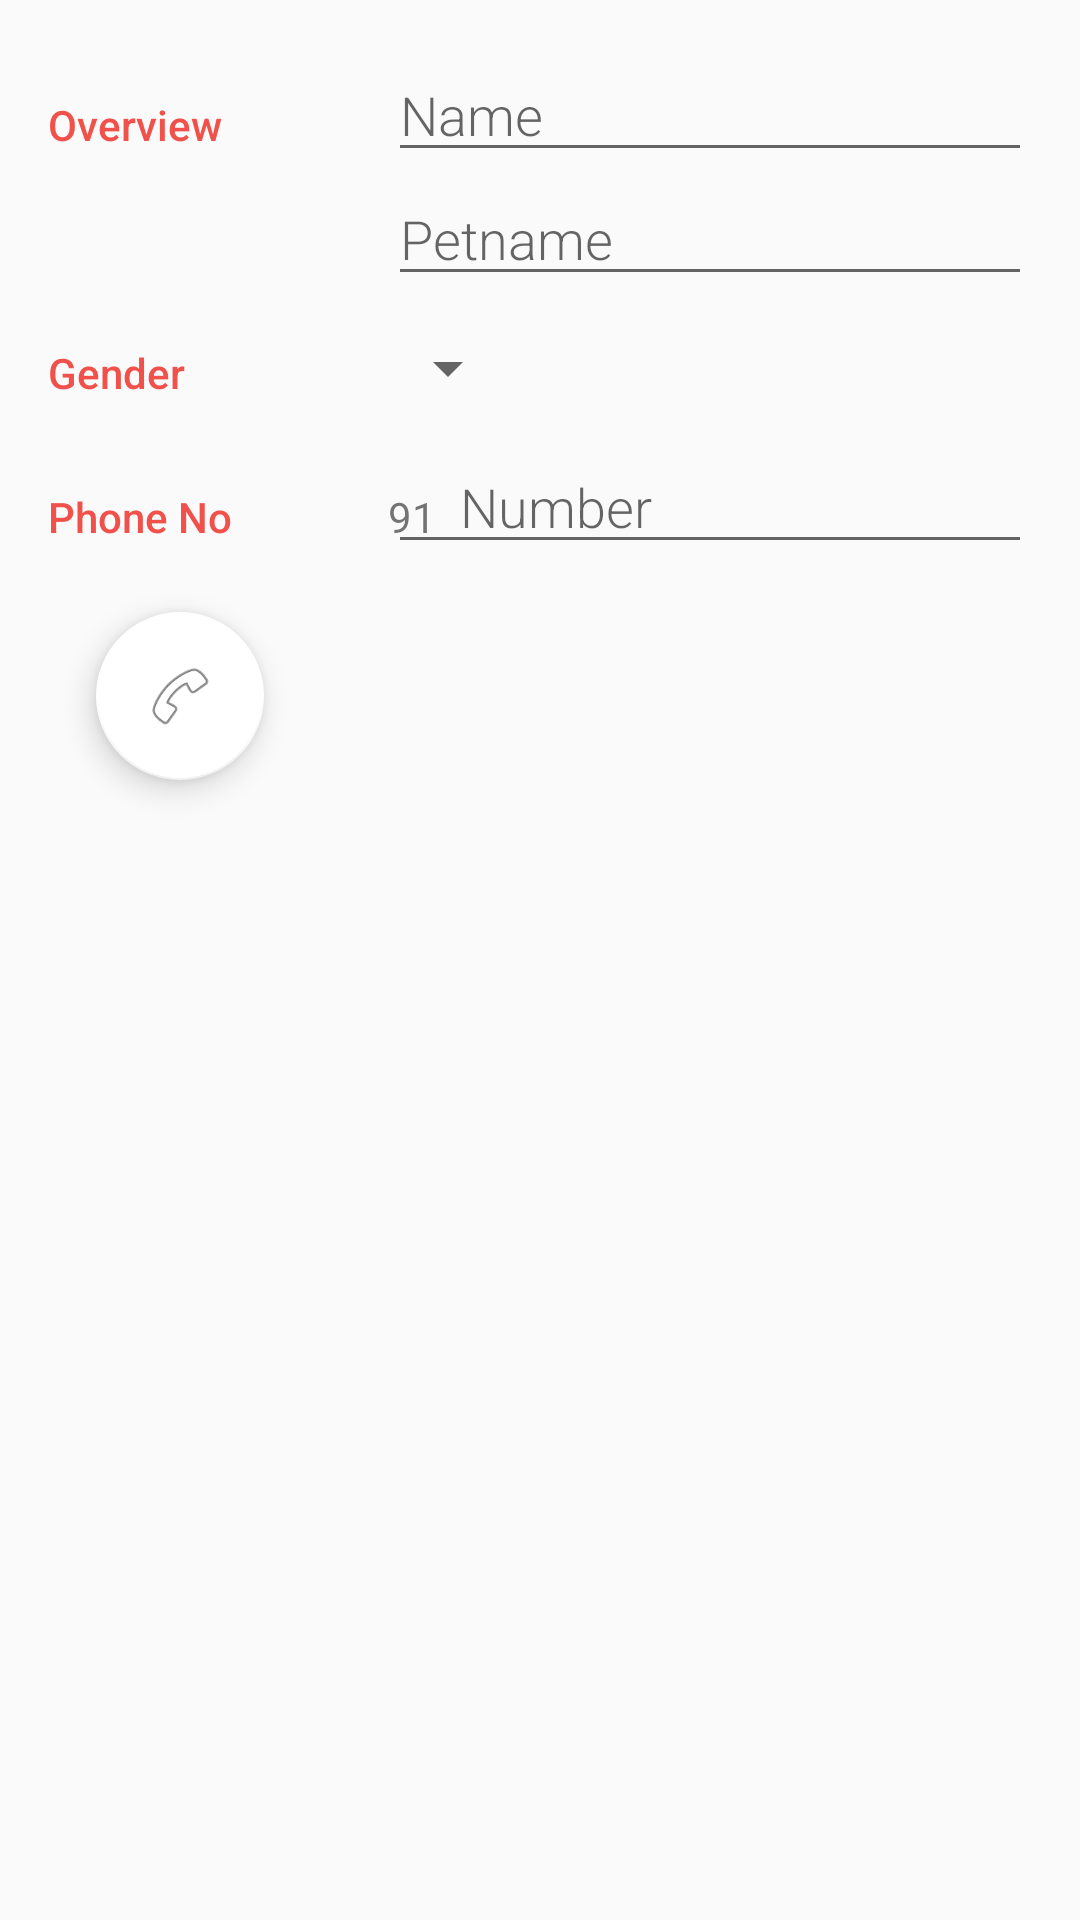

Named icons in this screenshot (1080x1920) and their centers, [x,y]:
call: [174,723]
